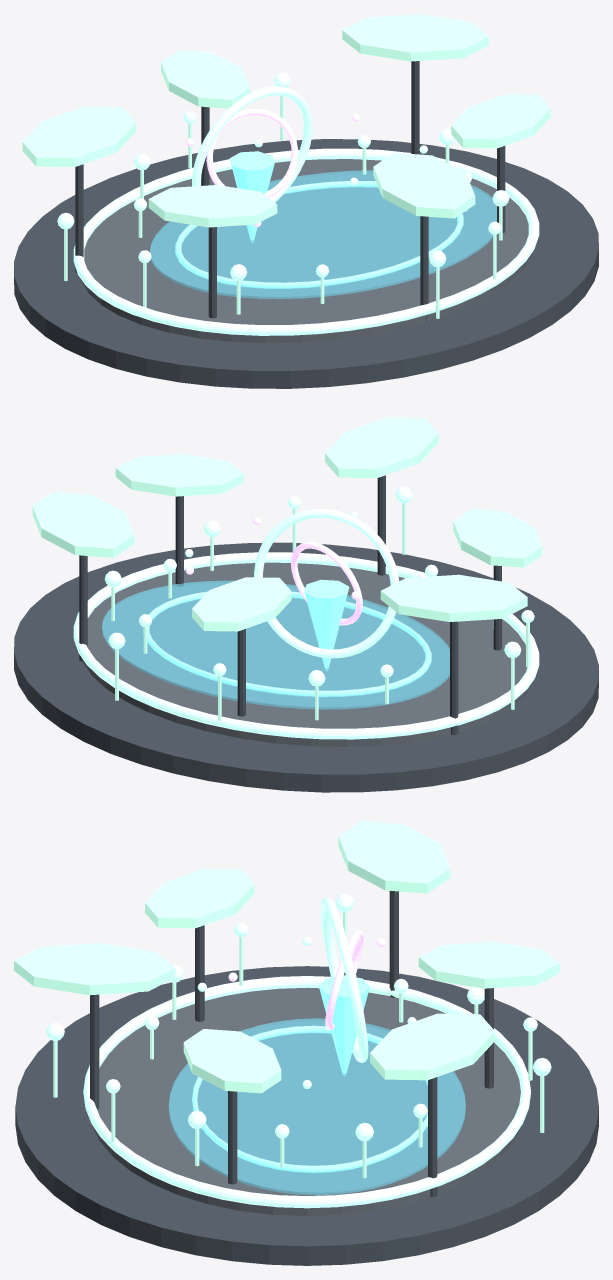
Rendered from reflection-garden-lod0.4fcd456a1bbc.glb.
3 views of the same model, one above another, from view 1: azimuth 30°, elevation 25°; view 2: azimuth 150°, elevation 25°; view 3: azimuth 270°, elevation 25° (orthographic). The views are drawn at different scales.
Visible parts, largest first — view 1: garden_terrace_outer, reflective_pool, garden_terrace_inner, quiet_path_outer, canopy_crown_5, canopy_crown_3, canopy_crown_1, canopy_crown_2, canopy_crown_0, canopy_crown_4, quiet_path_inner, reflection_monument_outer (+7 smaller); view 2: garden_terrace_outer, reflective_pool, garden_terrace_inner, quiet_path_outer, canopy_crown_3, canopy_crown_1, canopy_crown_5, canopy_crown_0, canopy_crown_4, canopy_crown_2, reflection_monument_outer, quiet_path_inner (+7 smaller); view 3: garden_terrace_outer, reflective_pool, garden_terrace_inner, quiet_path_outer, canopy_crown_1, canopy_crown_5, canopy_crown_3, canopy_crown_4, canopy_crown_2, canopy_crown_0, quiet_path_inner, reflection_monument_outer (+8 smaller).
Boxes of the visible parts, box(x1,y1,x2,y2) form: garden_terrace_outer: box(14, 139, 598, 388); reflective_pool: box(149, 170, 496, 299); garden_terrace_inner: box(80, 159, 531, 343); quiet_path_outer: box(73, 148, 539, 335); canopy_crown_5: box(342, 14, 488, 61); canopy_crown_3: box(22, 106, 136, 166); canopy_crown_1: box(373, 152, 475, 218); canopy_crown_2: box(148, 185, 277, 227); canopy_crown_0: box(451, 94, 550, 148); canopy_crown_4: box(161, 50, 249, 108); quiet_path_inner: box(175, 181, 463, 288); reflection_monument_outer: box(192, 86, 312, 202); garden_terrace_outer: box(14, 542, 598, 792); reflective_pool: box(102, 580, 449, 709); garden_terrace_inner: box(82, 562, 532, 746); quiet_path_outer: box(73, 552, 539, 739); canopy_crown_3: box(380, 574, 527, 621); canopy_crown_1: box(325, 417, 438, 478); canopy_crown_5: box(32, 492, 134, 557); canopy_crown_0: box(115, 454, 243, 496); canopy_crown_4: box(192, 577, 291, 631); canopy_crown_2: box(453, 509, 542, 567); reflection_monument_outer: box(254, 509, 399, 658); quiet_path_inner: box(143, 591, 431, 696); garden_terrace_outer: box(15, 966, 598, 1265); reflective_pool: box(168, 1018, 465, 1195); garden_terrace_inner: box(91, 987, 523, 1216); quiet_path_outer: box(83, 976, 530, 1208); canopy_crown_1: box(14, 943, 175, 995); canopy_crown_5: box(370, 1013, 494, 1080); canopy_crown_3: box(338, 821, 450, 893); canopy_crown_4: box(418, 941, 559, 988); canopy_crown_2: box(145, 868, 254, 928); canopy_crown_0: box(183, 1029, 281, 1093); quiet_path_inner: box(192, 1025, 427, 1172); reflection_monument_outer: box(320, 897, 368, 1062).
Bounding box in the file's own units: 9.8 × 3.29 × 8.65.
